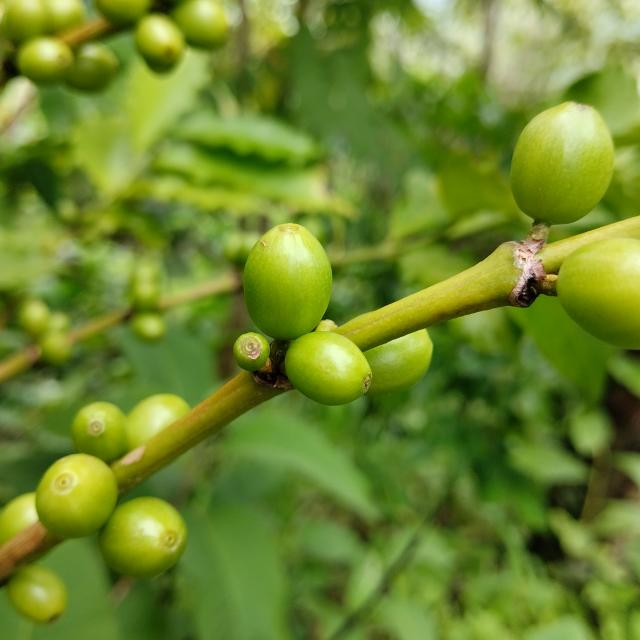green: (511, 101, 615, 224), (243, 223, 332, 340), (558, 238, 640, 349), (98, 498, 187, 580), (35, 454, 117, 539), (285, 331, 372, 406), (364, 329, 433, 397), (125, 394, 190, 451), (7, 566, 66, 624), (70, 402, 126, 463), (0, 493, 38, 546)
